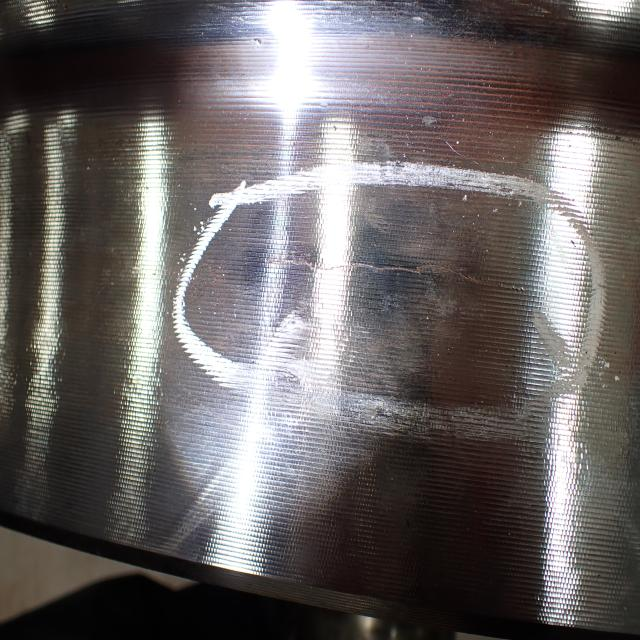Contact_Fatigue_Cracks: (424, 261, 519, 296), (266, 256, 419, 277)
